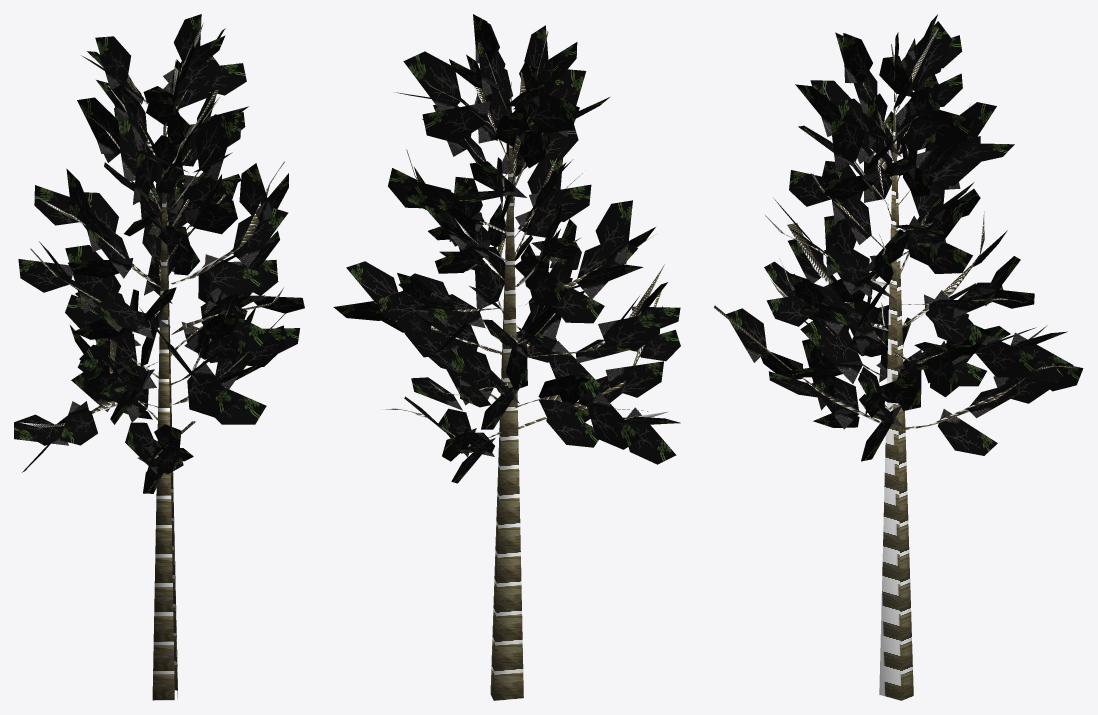
File: TreeOak01_Test_2.fbx
3 views of the same model, side by side, from view 1: azimuth 30°, elevation 25°; view 2: azimuth 150°, elevation 25°; view 3: azimuth 270°, elevation 25° (orthographic).
Parts seen in each view (by area): view 1: TreeOak01; view 2: TreeOak01; view 3: TreeOak01.
Part boxes in pixels (<box>): TreeOak01: <box>14,14,304,700</box>; TreeOak01: <box>333,14,680,700</box>; TreeOak01: <box>713,14,1083,700</box>.
Bounding box in the file's own units: 620 × 1306 × 655.
